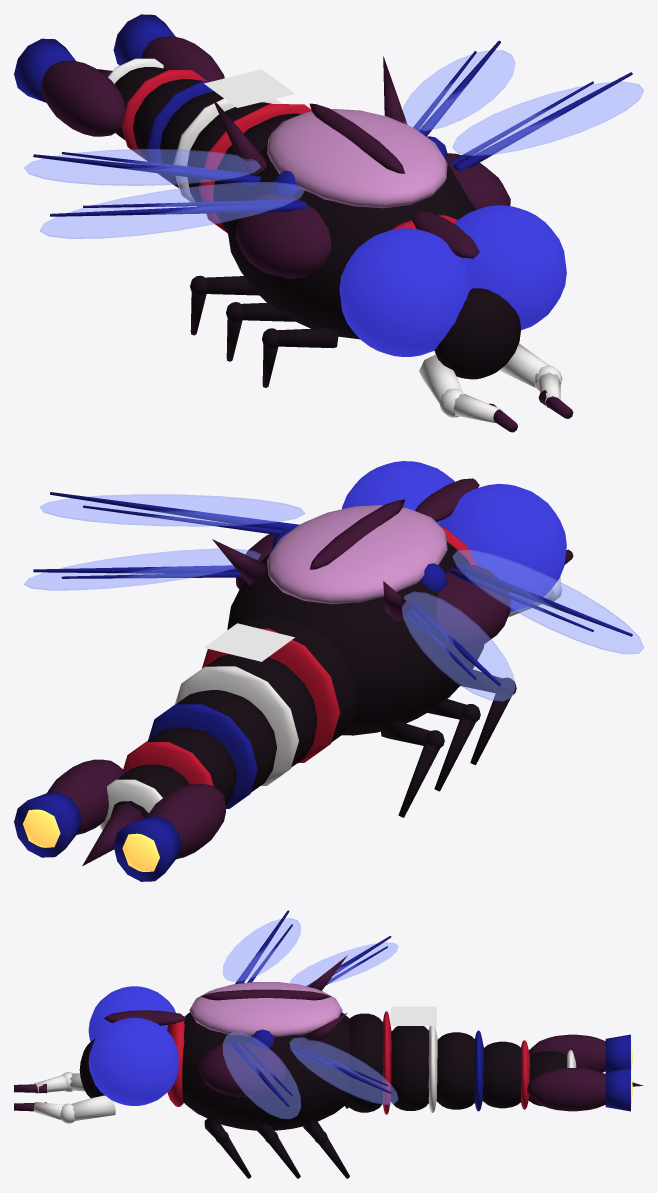
File: Grix_VilinKonjic.fbx
The picture shows the model from 3 angles, top to bottom: view 1: azimuth 30°, elevation 25°; view 2: azimuth 150°, elevation 25°; view 3: azimuth 270°, elevation 25°; orthographic projection. The views are drawn at different scales.
Visible parts, largest first — view 1: Body, Flag; view 2: Body, Flag; view 3: Body, Flag.
Boxes of the visible parts, x1,y1,x2,y2 form: Body: (14, 14, 643, 432); Flag: (204, 69, 294, 107); Body: (14, 461, 643, 881); Flag: (204, 623, 294, 661); Body: (14, 910, 643, 1178); Flag: (391, 1006, 436, 1025).
Size of the model in its own units: 4.33 by 1.61 by 5.75.
